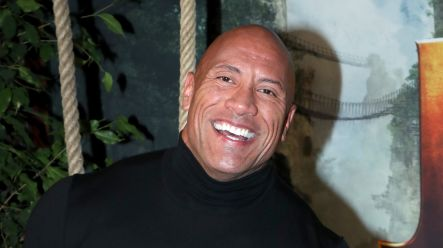person: (35, 23, 353, 248)
